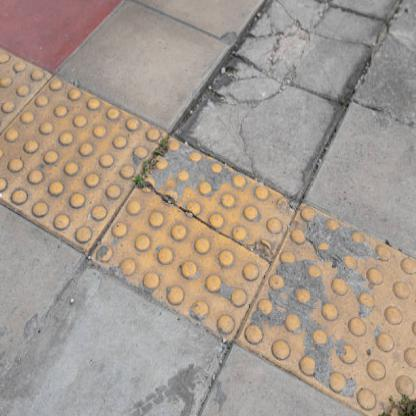podotacti: (1, 48, 416, 416)
